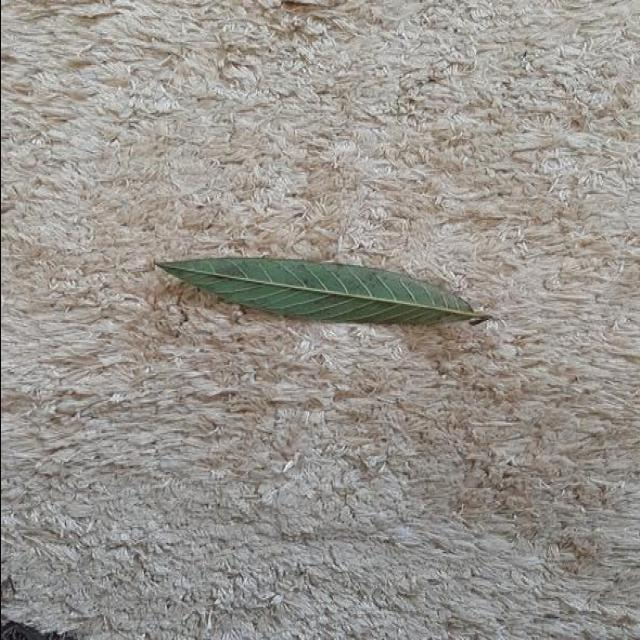leaf: (153, 255, 492, 327)
